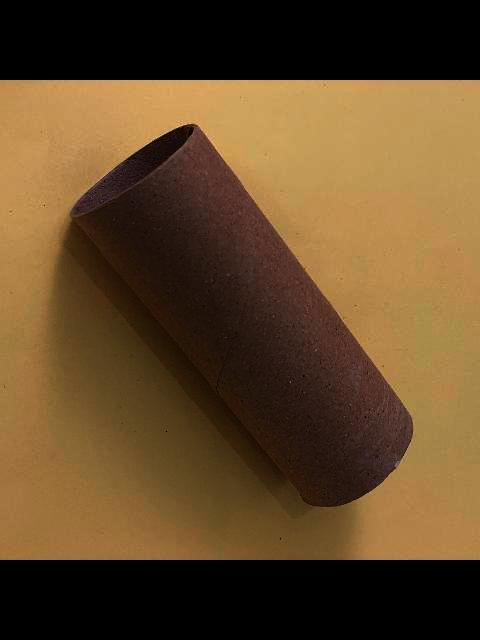tissueroll: (65, 120, 415, 510)
